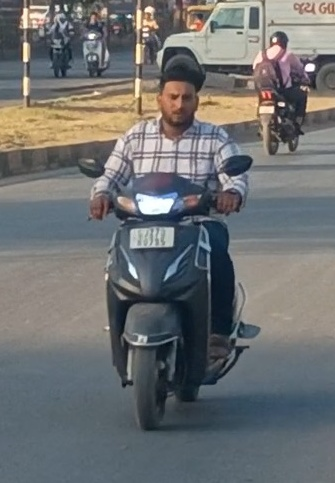BikeWithRider: (70, 49, 267, 435), (247, 27, 318, 158), (38, 1, 79, 80), (75, 7, 115, 80)
Helmet: (265, 27, 293, 53)
NoHelmet: (148, 51, 211, 127)
